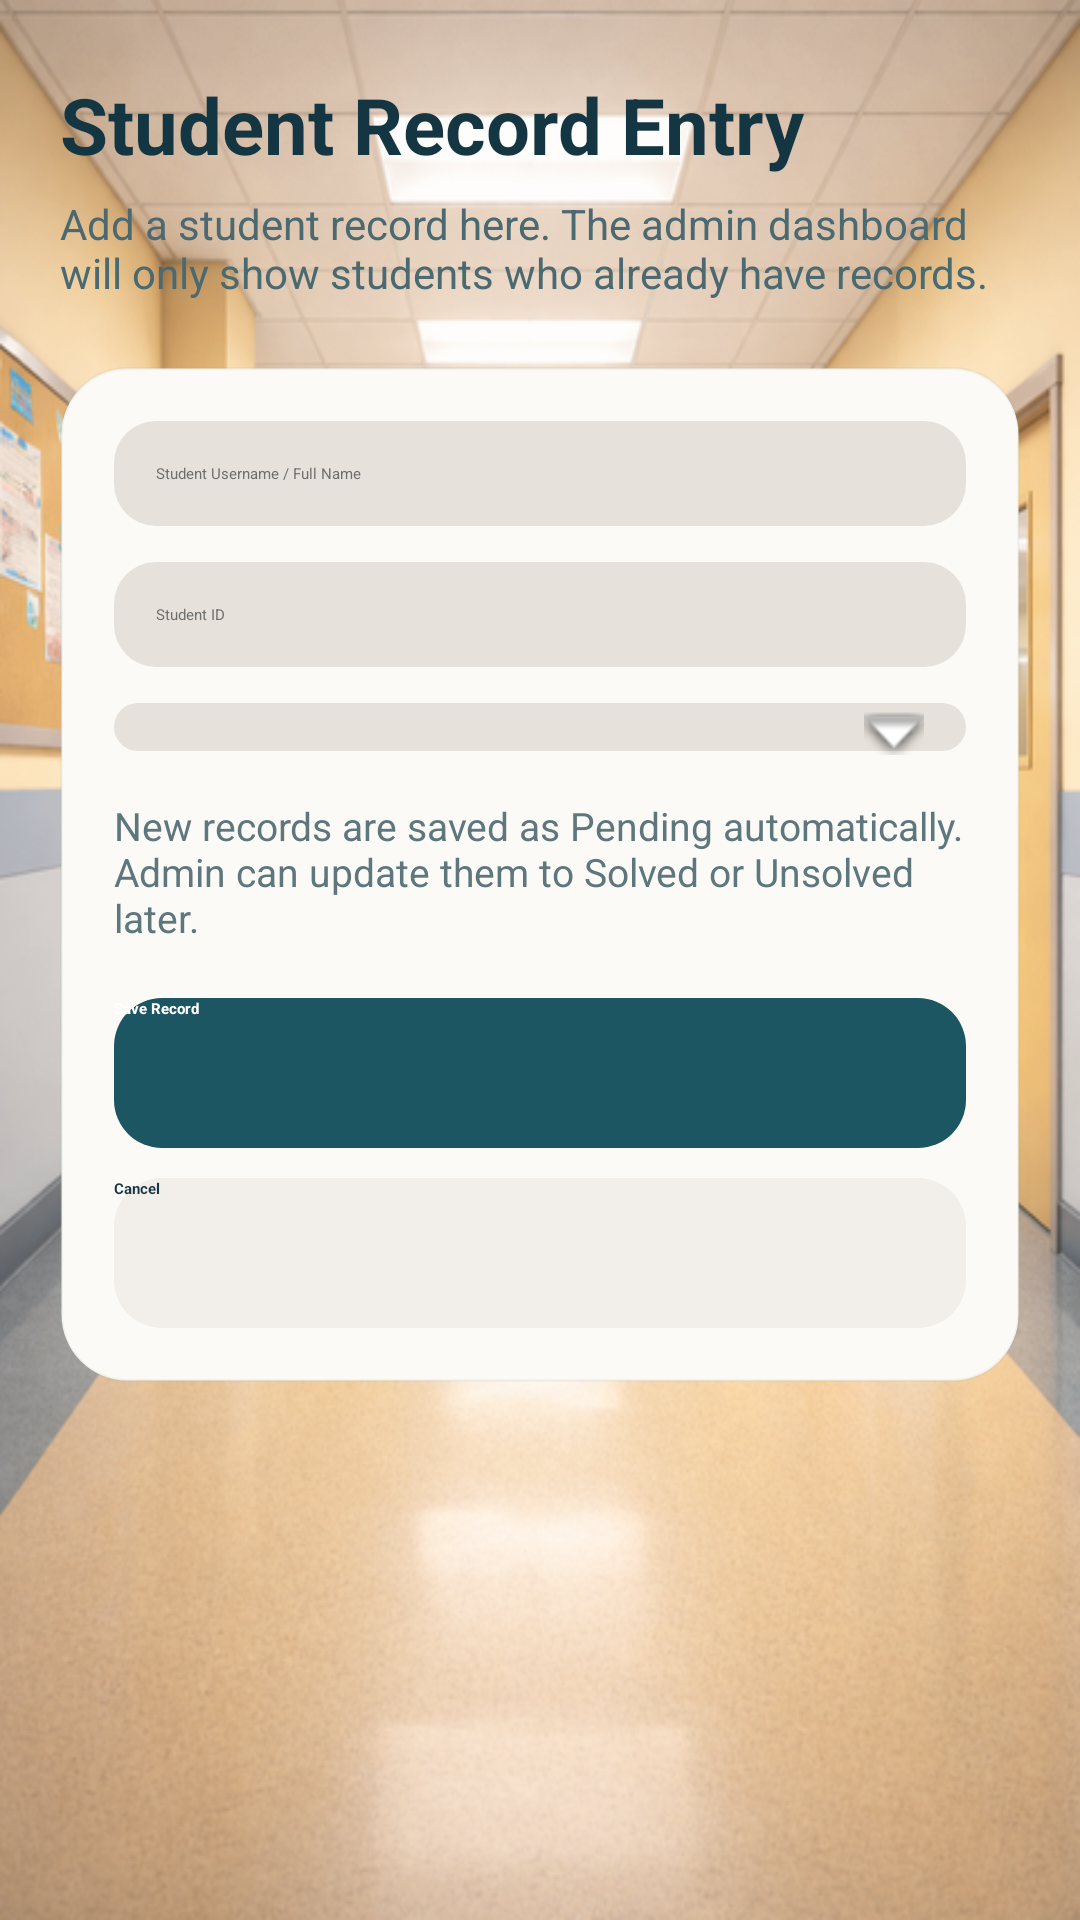

Icons on this 1080w x 1920h Android screen, each with the point to tap as (x,y):
Dropdown arrow: (894,728)
